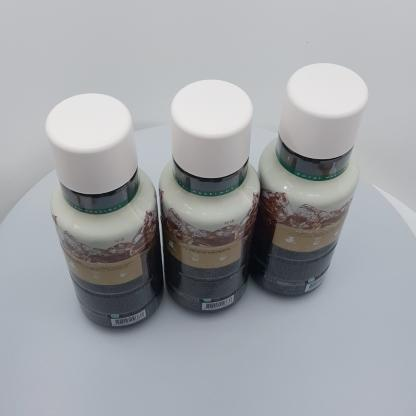--------1-1L: (45, 93, 164, 329), (248, 63, 369, 295), (159, 79, 261, 313)
